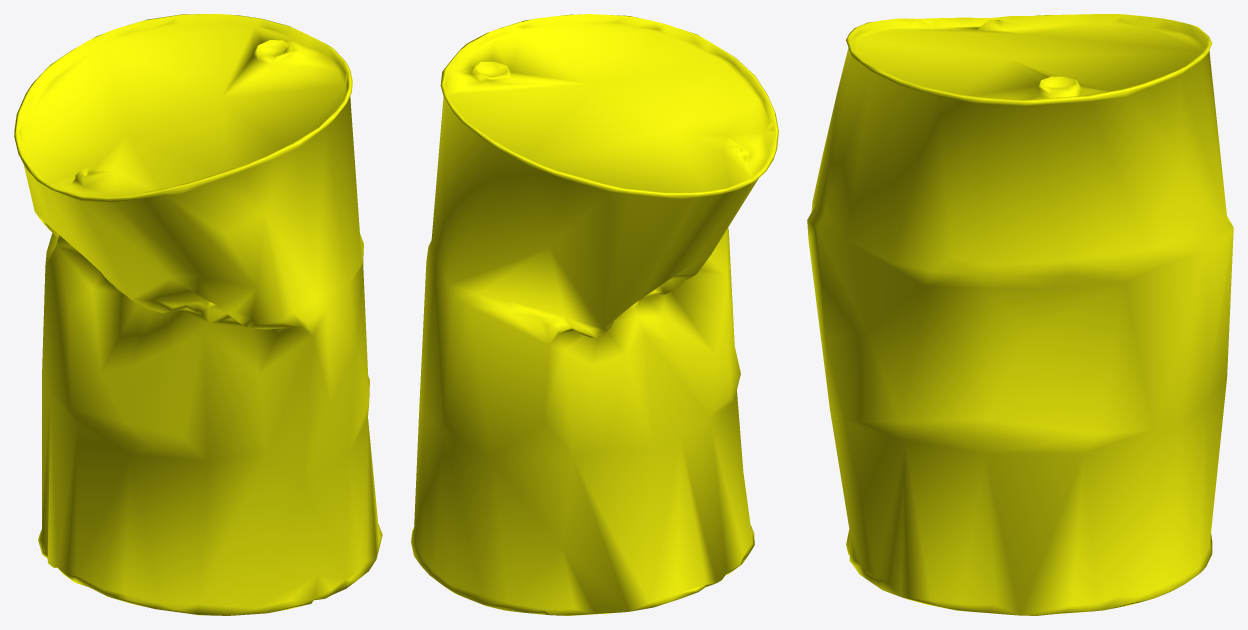
The model's file is junk3.glb.
The picture shows the model from 3 angles, left to right: view 1: azimuth 30°, elevation 25°; view 2: azimuth 150°, elevation 25°; view 3: azimuth 270°, elevation 25°; orthographic projection. The views are drawn at different scales.
Visible parts, largest first — view 1: tewscfuda_LOD0_TIER3_000; view 2: tewscfuda_LOD0_TIER3_000; view 3: tewscfuda_LOD0_TIER3_000.
Part boxes in pixels (x1,y1,x2,y2): tewscfuda_LOD0_TIER3_000: (14,14,382,615); tewscfuda_LOD0_TIER3_000: (411,14,778,615); tewscfuda_LOD0_TIER3_000: (807,14,1233,615).
Size of the model in its own units: 0.6198 by 0.8756 by 0.6641.
Materials: 1 (1 with a texture image).
